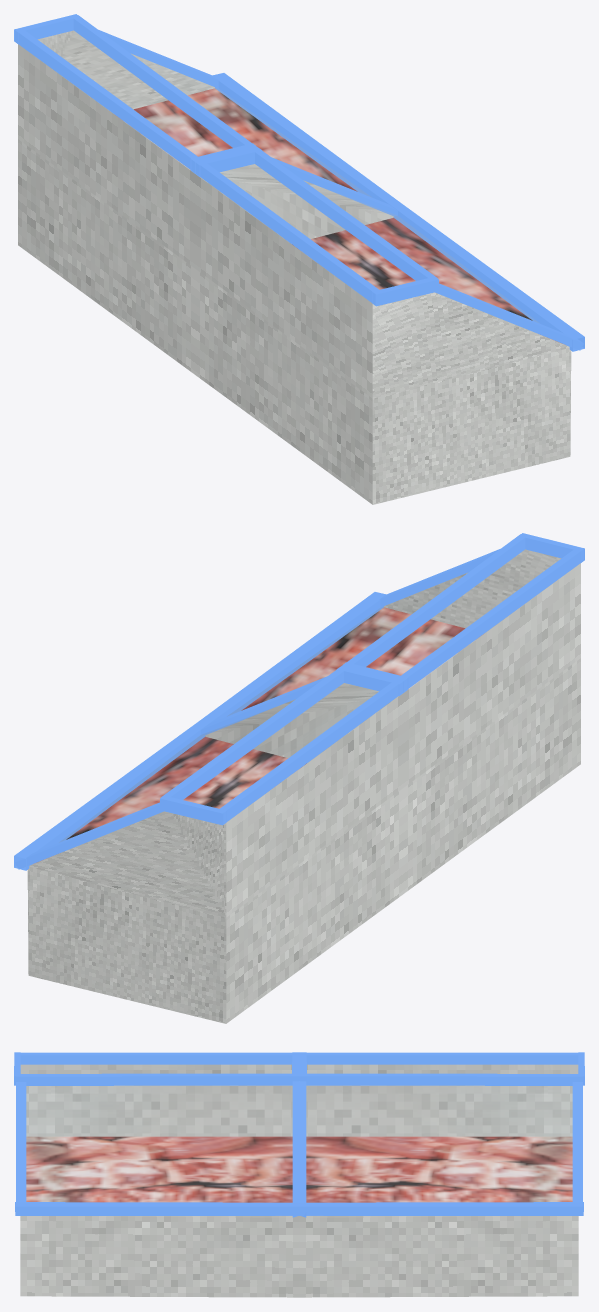
File: meatdisplay.glb
3 views of the same model, one above another, from view 1: azimuth 30°, elevation 25°; view 2: azimuth 150°, elevation 25°; view 3: azimuth 270°, elevation 25° (orthographic). The views are drawn at different scales.
Parts seen in each view (by area): view 1: Cube; view 2: Cube; view 3: Cube.
Boxes of the visible parts, box(x1,y1,x2,y2) form: Cube: box(14, 14, 584, 504); Cube: box(14, 533, 584, 1023); Cube: box(14, 1052, 584, 1297).
Size of the model in its own units: 2.06 by 1.99 by 6.14.
Materials: 4 (3 with a texture image).
